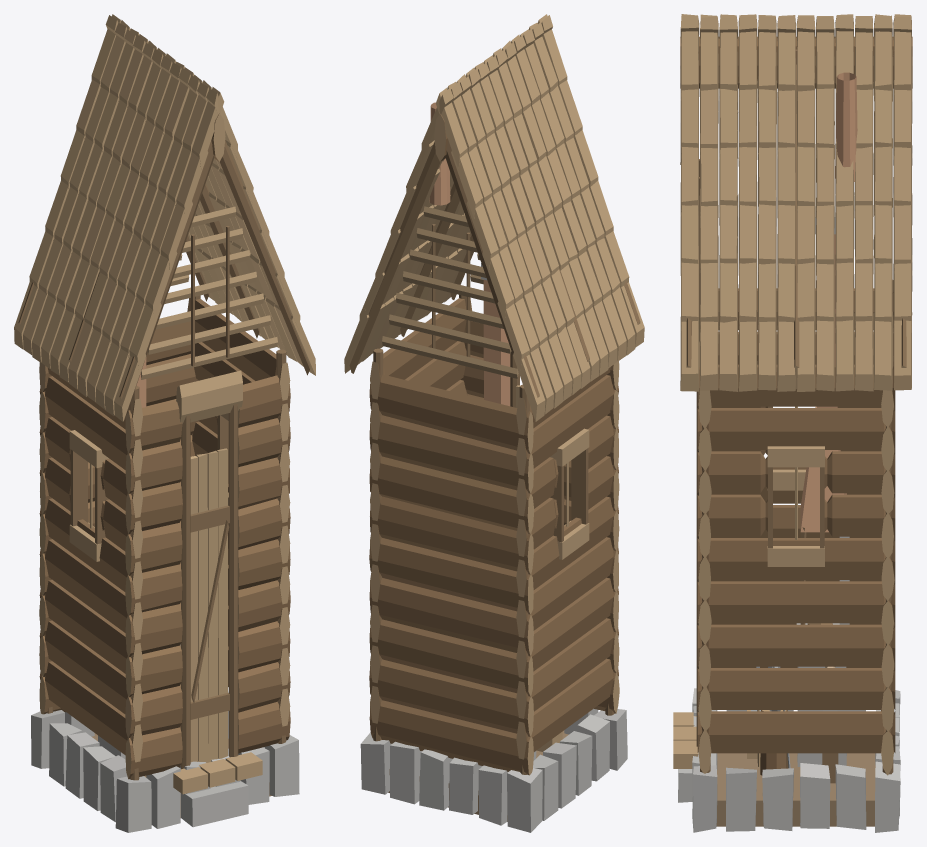
File: building_forge_complete.glb
3 renders of one model, left to right at view 1: azimuth 30°, elevation 25°; view 2: azimuth 150°, elevation 25°; view 3: azimuth 270°, elevation 25°, orthographic. The views are drawn at different scales.
Visible parts, largest first — view 1: building_forge_complete; view 2: building_forge_complete; view 3: building_forge_complete.
Boxes of the visible parts, box(x1,y1,x2,y2) form: building_forge_complete: box(14, 14, 315, 832); building_forge_complete: box(344, 14, 644, 832); building_forge_complete: box(673, 14, 912, 832).
Bounding box in the file's own units: 1 × 3.57 × 1.
